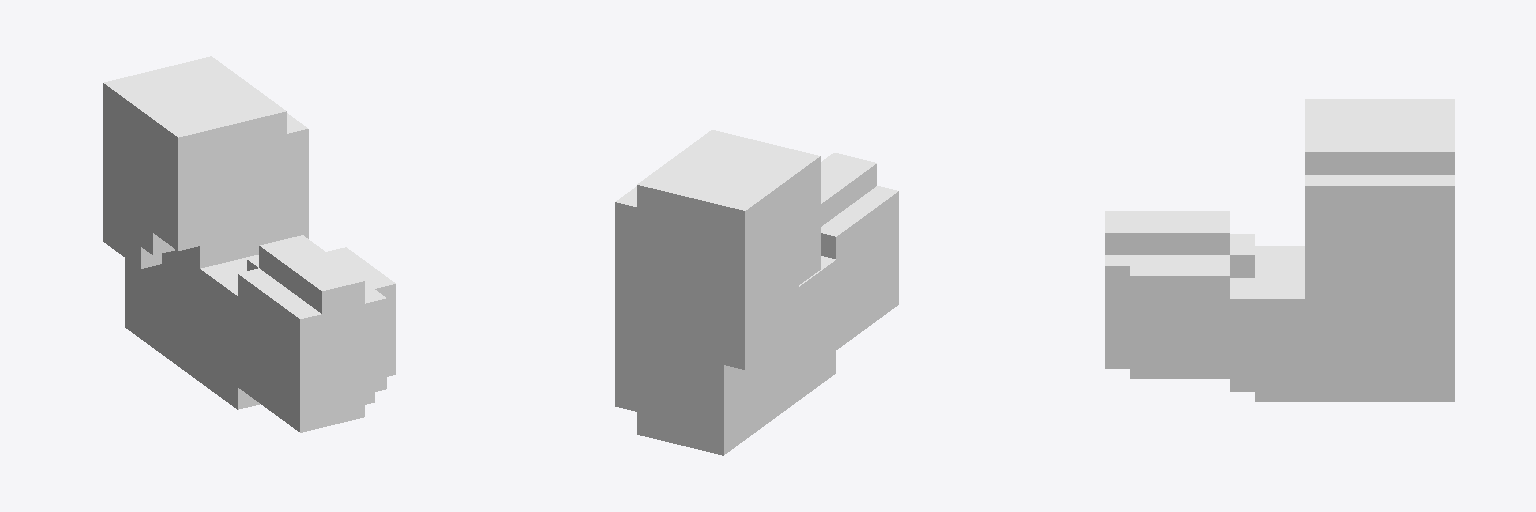
Rendered from DragonArmLeft.obj.
The picture shows the model from 3 angles: view 1: azimuth 30°, elevation 25°; view 2: azimuth 150°, elevation 25°; view 3: azimuth 270°, elevation 25°; orthographic projection.
Parts seen in each view (by area): view 1: DragonArmLeft; view 2: DragonArmLeft; view 3: DragonArmLeft.
Boxes of the visible parts, x1=… form: DragonArmLeft: x1=103, y1=56, x2=395, y2=432; DragonArmLeft: x1=615, y1=130, x2=898, y2=455; DragonArmLeft: x1=1105, y1=99, x2=1454, y2=401.
Size of the model in its own units: 6 by 11 by 14.